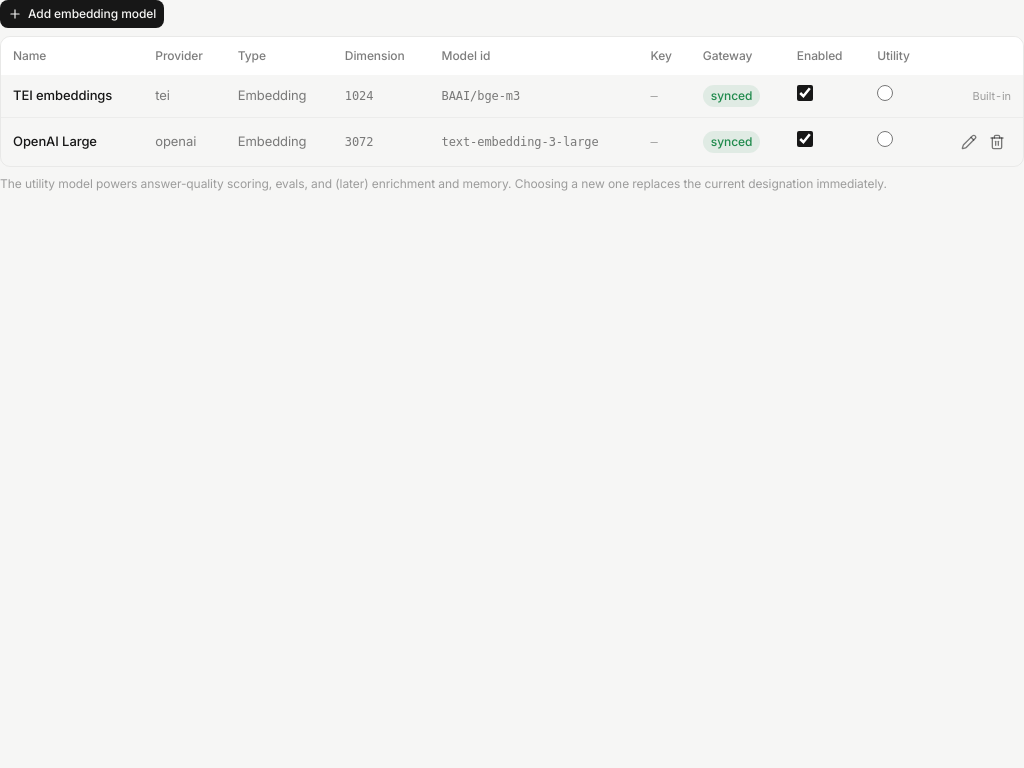
adding from the embedding registry starts the form on Embedding
What coordinates should you click on to do the following:
click the button "Add embedding model"
I would click on:
 (82, 14)
Its box is [0,0,164,28].
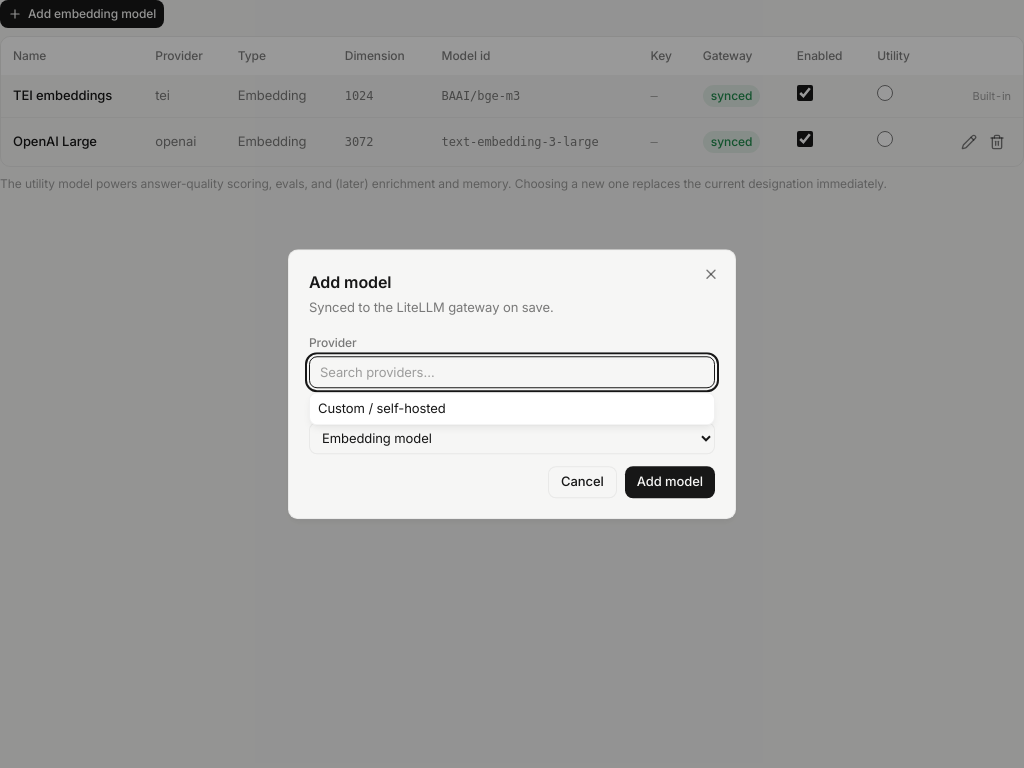
Expected: the dropdown labelled "Type" shows "Embedding model", [309,422,715,454]
